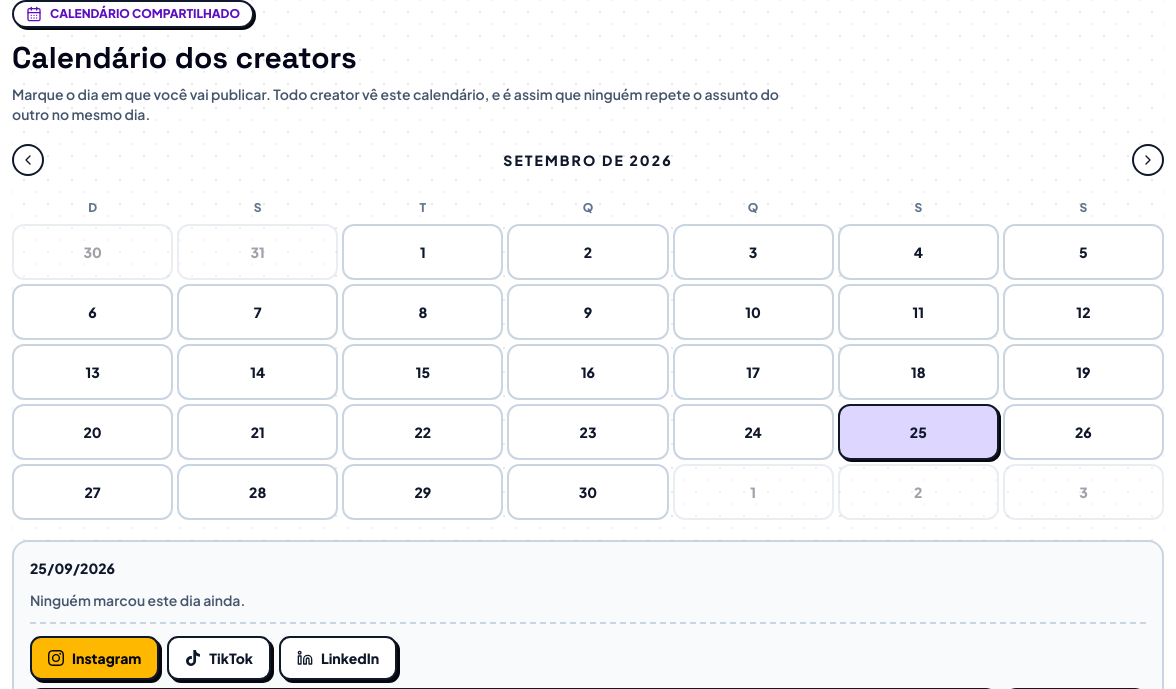
Test: CreatorCalendario: janela retroativa › antes do piso: sem formulario, com a frase da janela
Click the button "12".
click(1083, 312)  # box [1003, 284, 1164, 340]
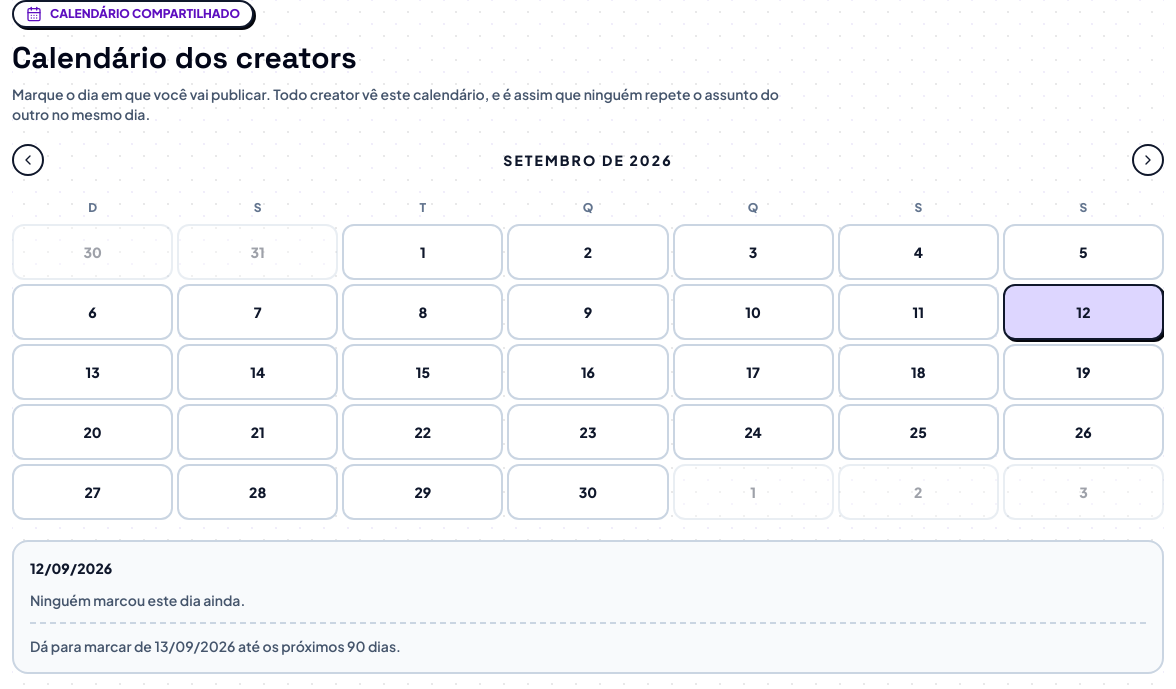
Check: the text with test id "creator-dia-fora-da-janela" shows "13/09/2026", box [30, 637, 401, 655]
